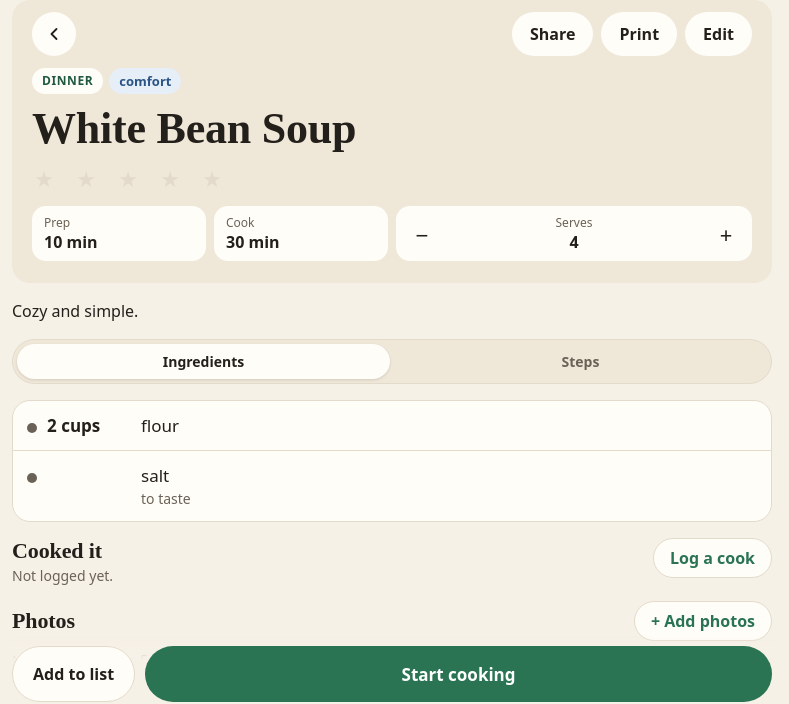
RecipeView › scales the numeric ingredient when servings are doubled and leaves "to taste" unchanged
# 4 → 8 servings.
Click the button named "Increase servings" at (726, 234), box [704,212,748,256]
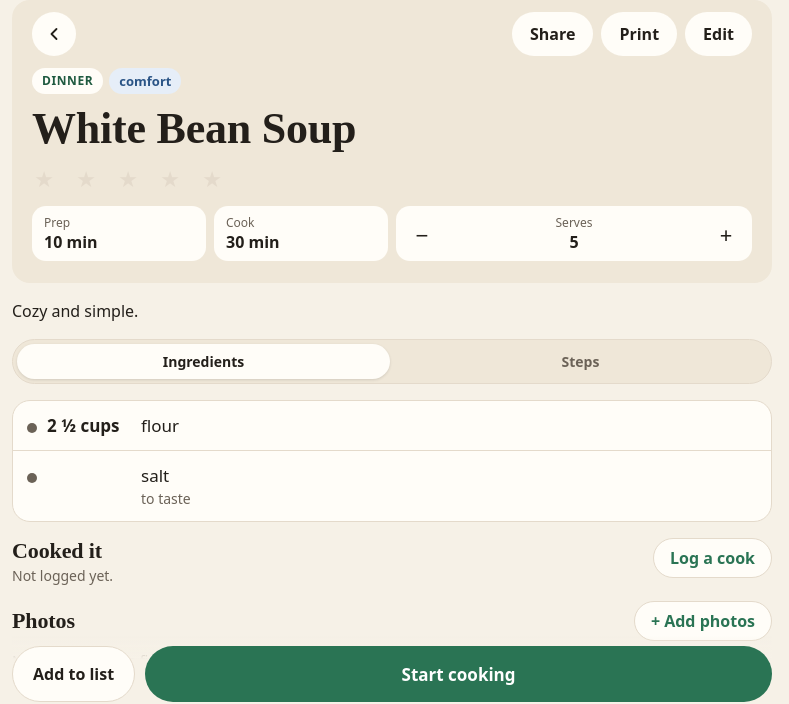
Click the button named "Increase servings" at (726, 234), box [704,212,748,256]
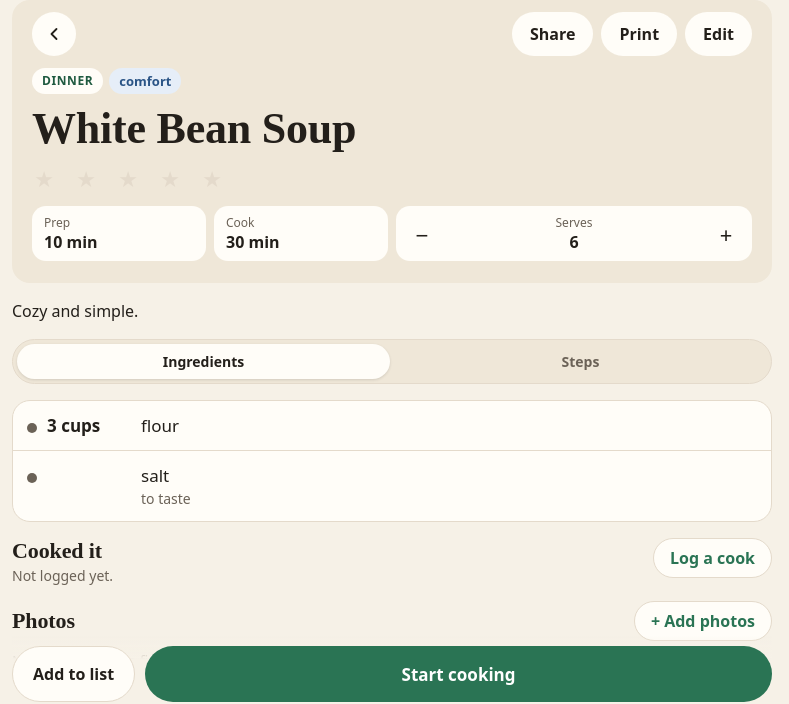
Click the button named "Increase servings" at (726, 234), box [704,212,748,256]
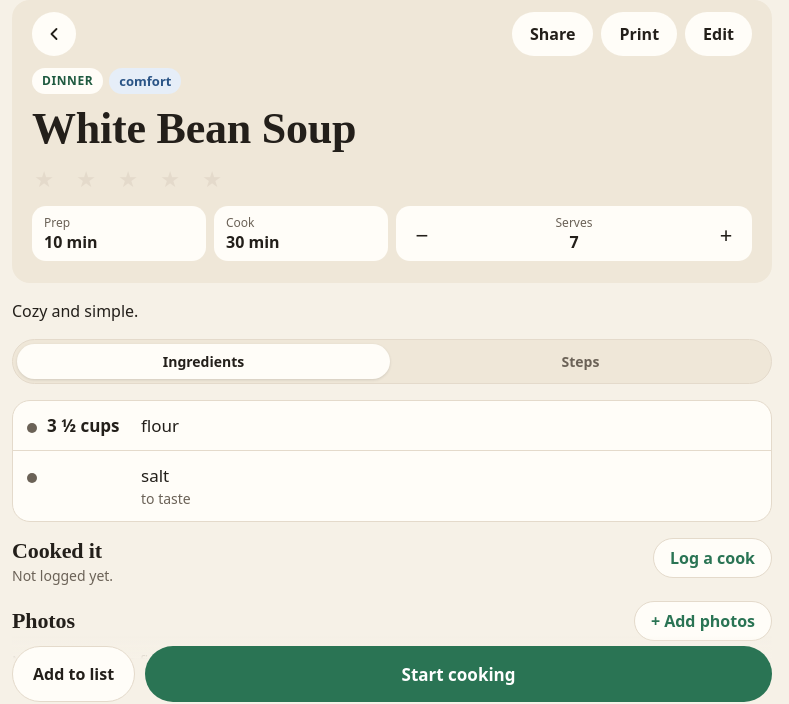
Click the button named "Increase servings" at (726, 234), box [704,212,748,256]
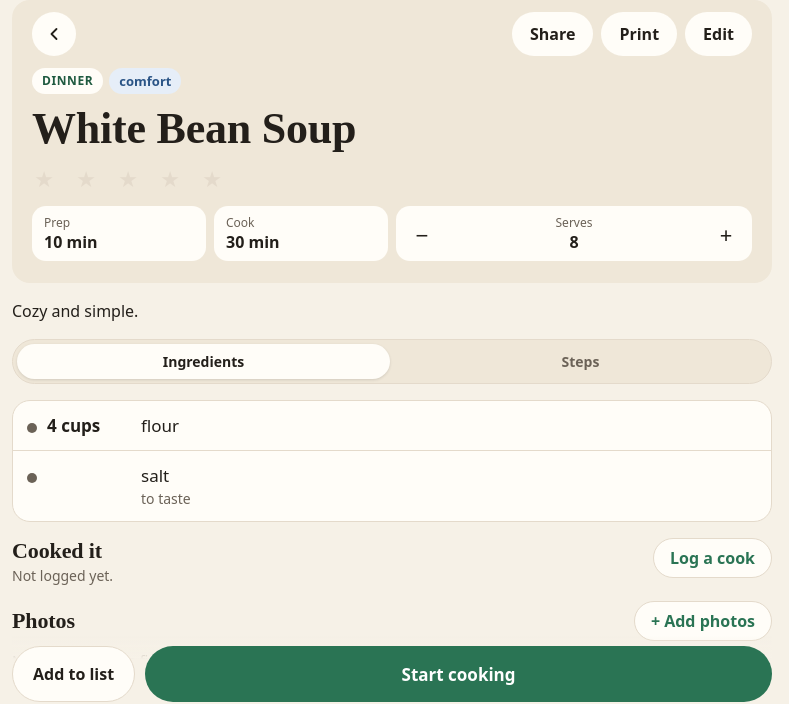
Now the text "4 cups" is shown, box [47,414,100,437]
